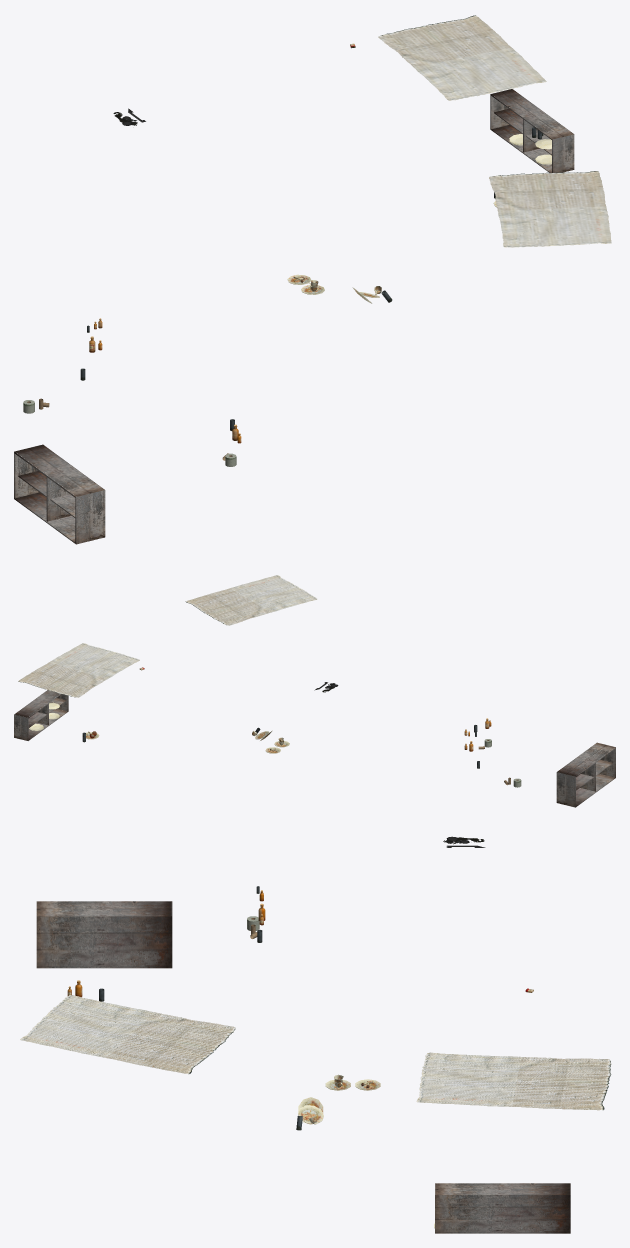
The model's file is ObjetosFlaltantes.FBX.
3 views of the same model, one above another, from view 1: azimuth 30°, elevation 25°; view 2: azimuth 150°, elevation 25°; view 3: azimuth 270°, elevation 25° (orthographic). The views are drawn at different scales.
Parts seen in each view (by area): view 1: Alfombra1, Alfombra2, MuebleBodega, EstanteCocina; view 2: Alfombra1, Alfombra2, MuebleBodega, EstanteCocina; view 3: Alfombra2, Alfombra1, MuebleBodega, EstanteCocina.
Part boxes in pixels (x1=…): Alfombra1: x1=489, y1=171, x2=611, y2=247; Alfombra2: x1=378, y1=15, x2=546, y2=100; MuebleBodega: x1=14, y1=444, x2=105, y2=544; EstanteCocina: x1=490, y1=89, x2=574, y2=172; Alfombra1: x1=185, y1=575, x2=317, y2=625; Alfombra2: x1=18, y1=643, x2=139, y2=697; MuebleBodega: x1=556, y1=742, x2=615, y2=807; EstanteCocina: x1=14, y1=690, x2=68, y2=740; Alfombra2: x1=416, y1=1052, x2=611, y2=1110; Alfombra1: x1=20, y1=995, x2=235, y2=1074; MuebleBodega: x1=36, y1=901, x2=172, y2=968; EstanteCocina: x1=435, y1=1183, x2=570, y2=1233.
Bounding box in the file's own units: 374 × 117 × 262.
